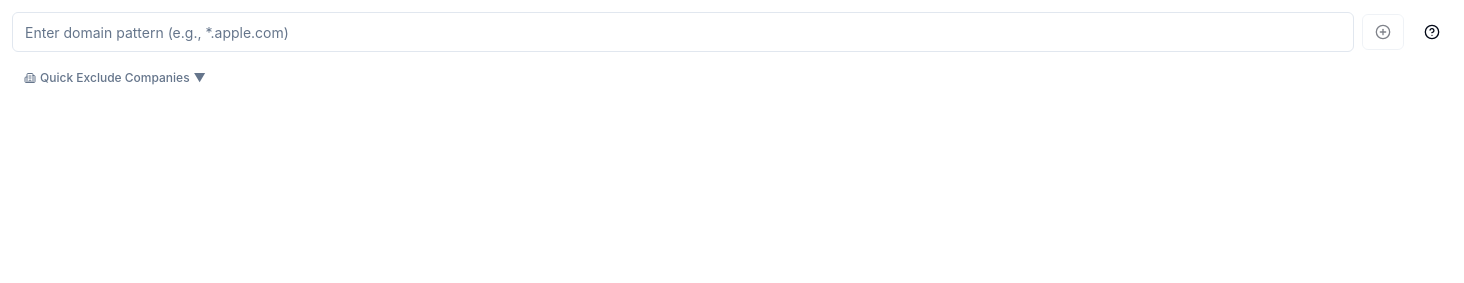
Test: 🧱 DomainExclusionInput Component › Help Section › should toggle help section when help button is clicked
Expected: the text "Wildcard Pattern Examples:" is not shown
Note: Click help button
Click the button titled "Show pattern help" at (1432, 32), box [1412,14,1452,50]
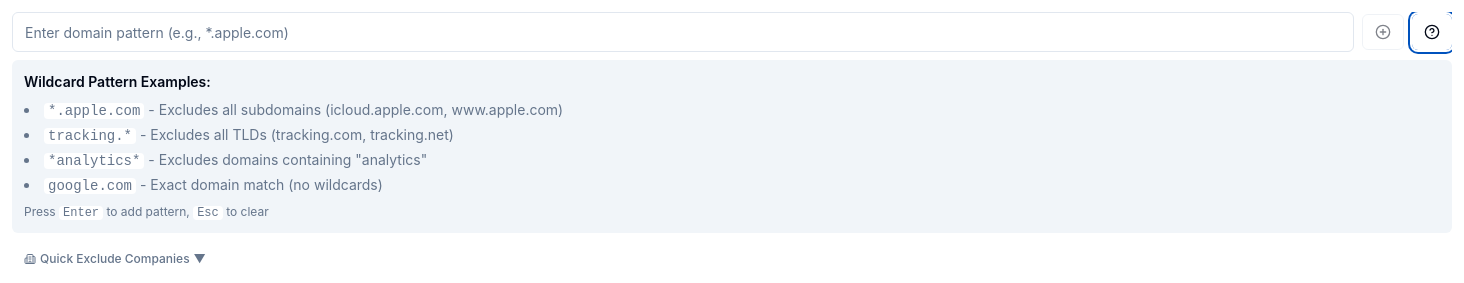
Expected: the text "Wildcard Pattern Examples:" is shown, [24,73,211,90]
Note: Click again to hide
Click the button titled "Show pattern help" at (1432, 32), box [1412,14,1452,50]
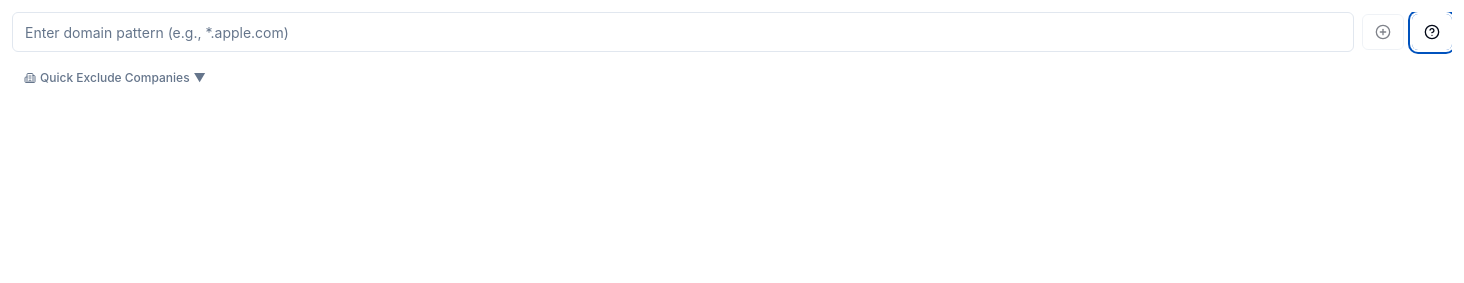
Expected: the text "Wildcard Pattern Examples:" is gone
